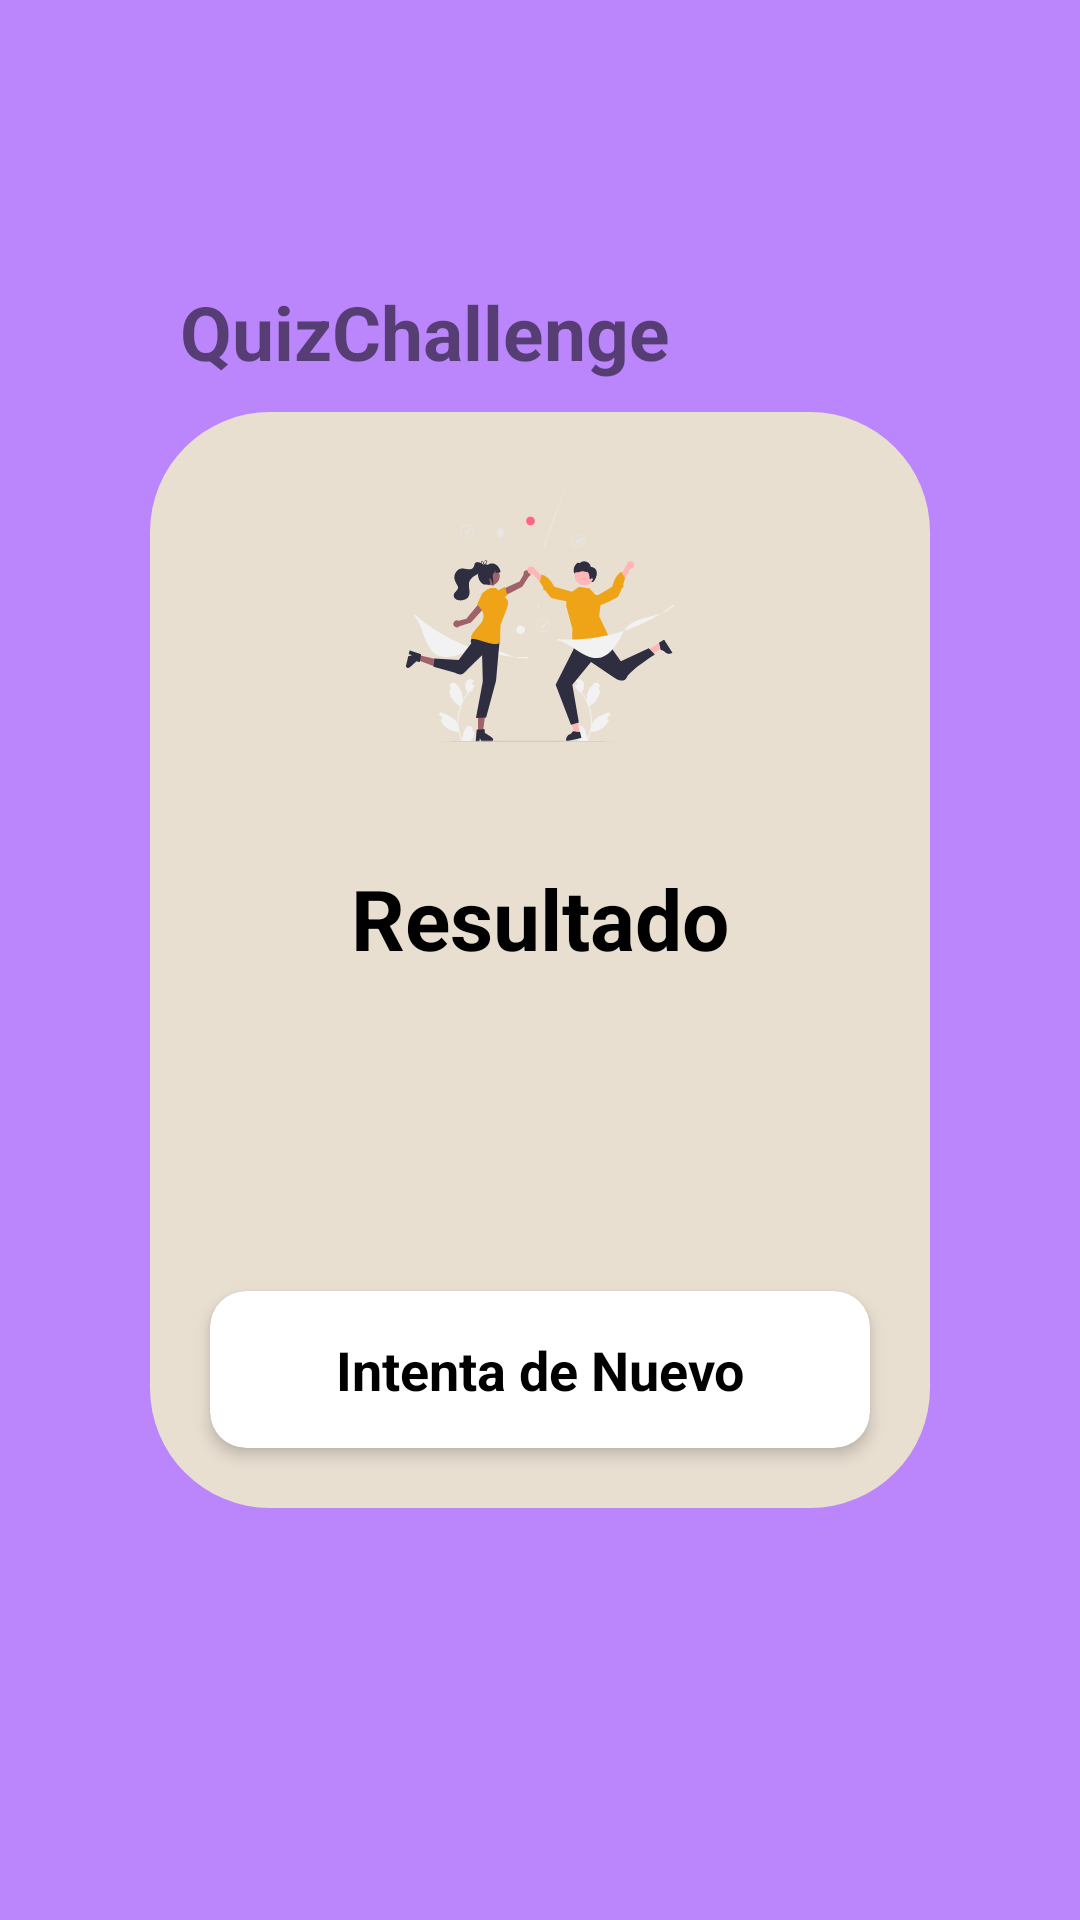

Icon bounding boxes for this 1080*1920 phone screenshot, format (x1, y1, x2, y2):
winners: (406, 516, 674, 742)
